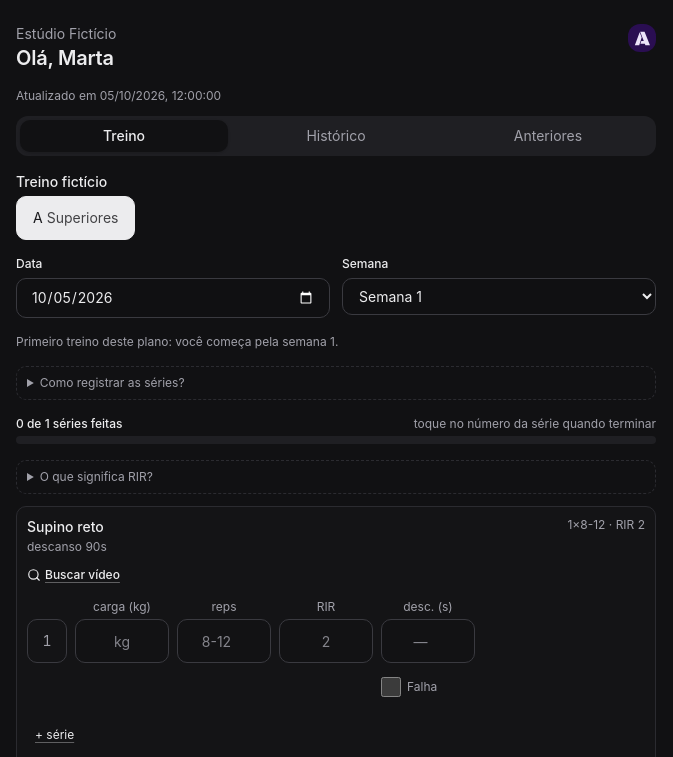
Test: semana do mesociclo depois de concluir (A08) › com internet também: trocar de seção depois de concluir não faz a semana voltar
The width and height of the screenshot is (673, 757).
Type "40" into the field named "Carga da série 1 de Supino reto".
click(122, 641); type("40")  # box top-left (75, 619), bottom-right (169, 663)
(page scrolled)
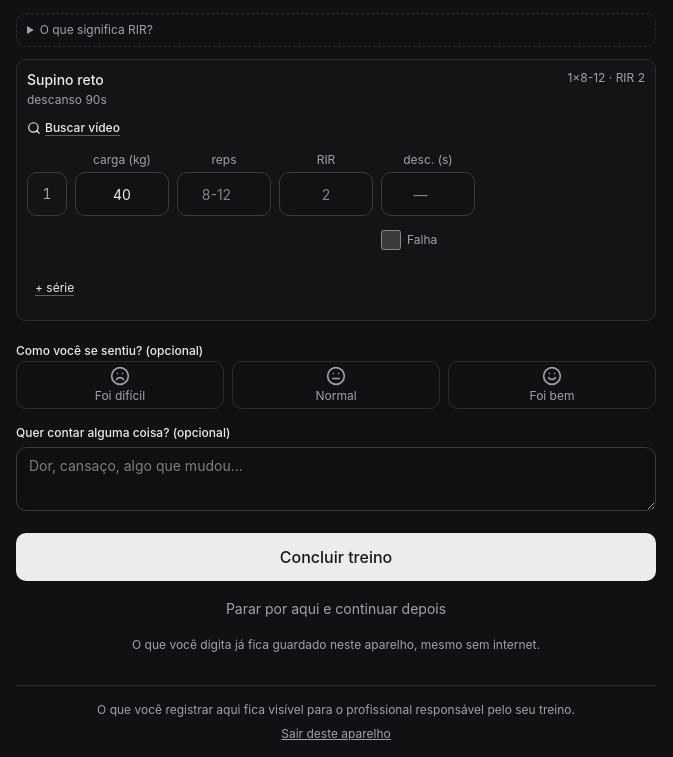
Click the button "Concluir treino".
click(336, 557)  # box top-left (16, 533), bottom-right (656, 581)
(page scrolled)
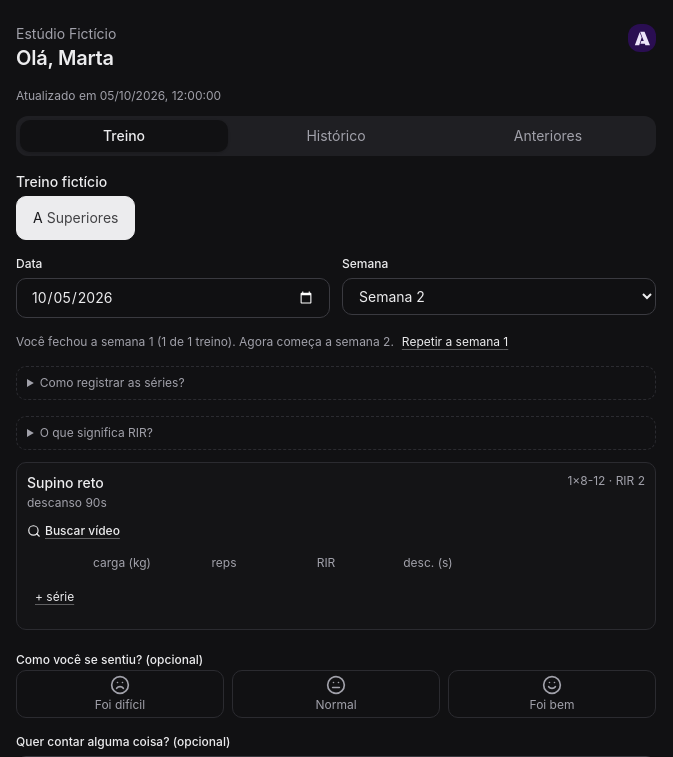
Click the button "Histórico".
click(336, 136)  # box top-left (232, 120), bottom-right (440, 152)
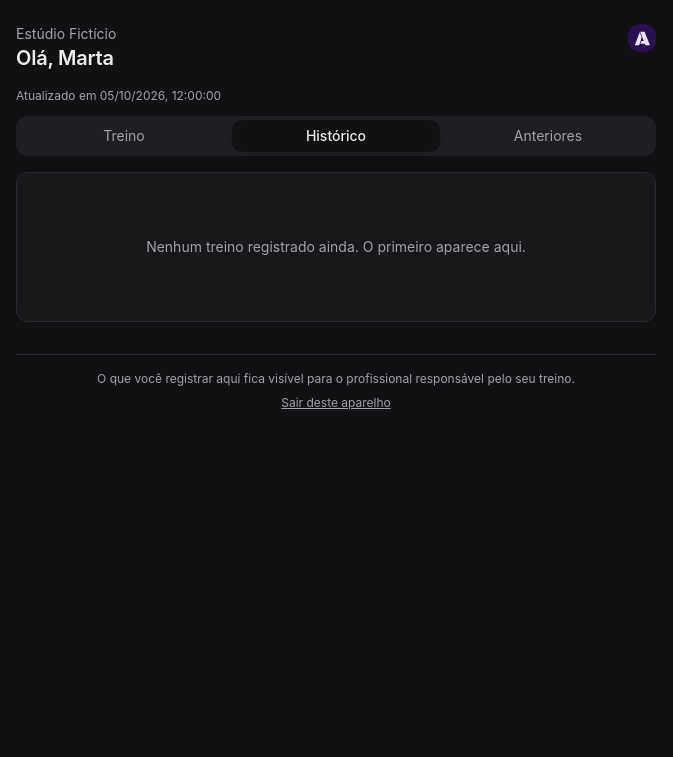
Expected: the text "Nenhum treino registrado ainda. O primeiro aparece aqui." is shown, top-left (146, 238), bottom-right (526, 255)
Click the button "Treino".
click(124, 136)  # box top-left (20, 120), bottom-right (228, 152)
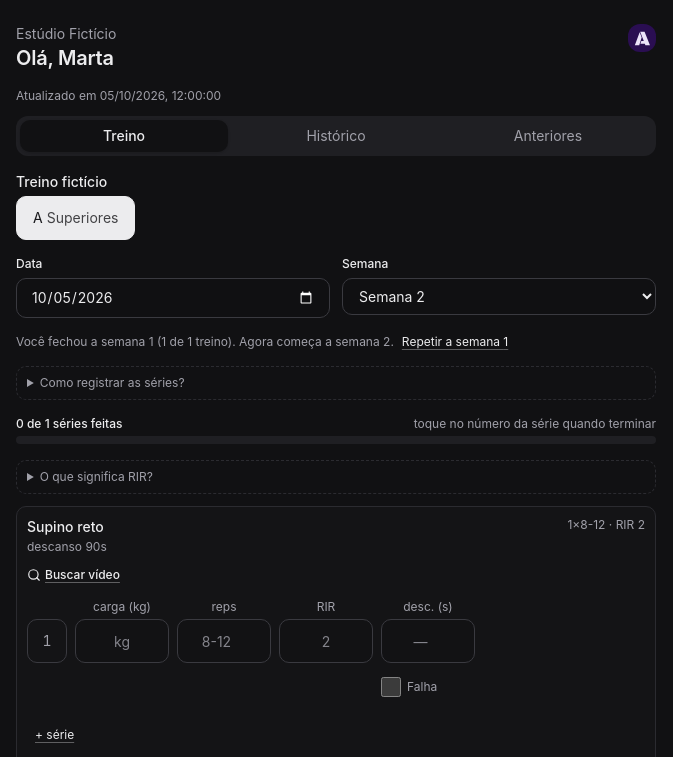
Expected: the field named "Carga da série 1 de Supino reto" is shown, top-left (75, 619), bottom-right (169, 663)
